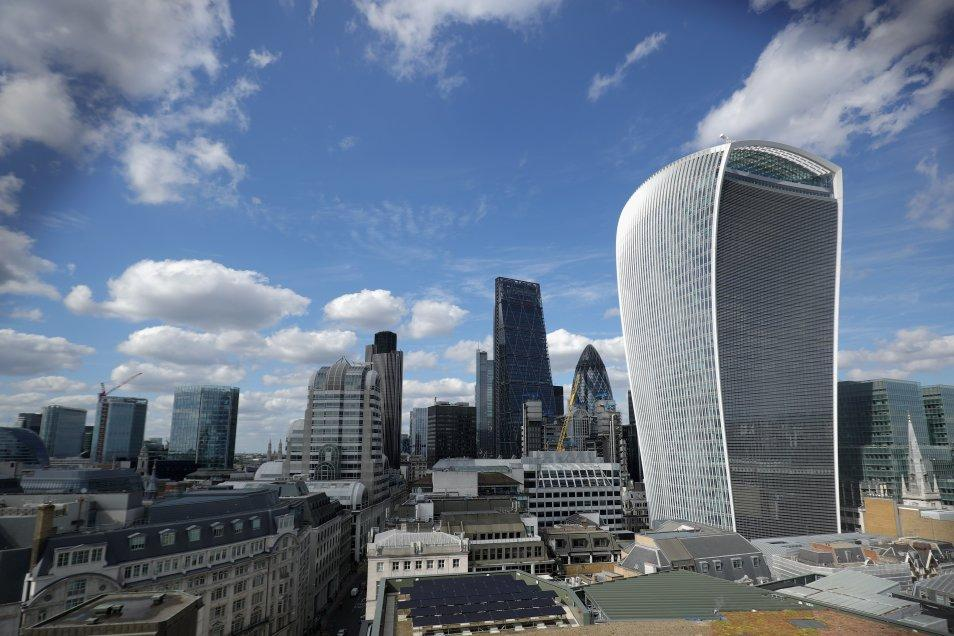Walkie talkie: (608, 124, 857, 531)
